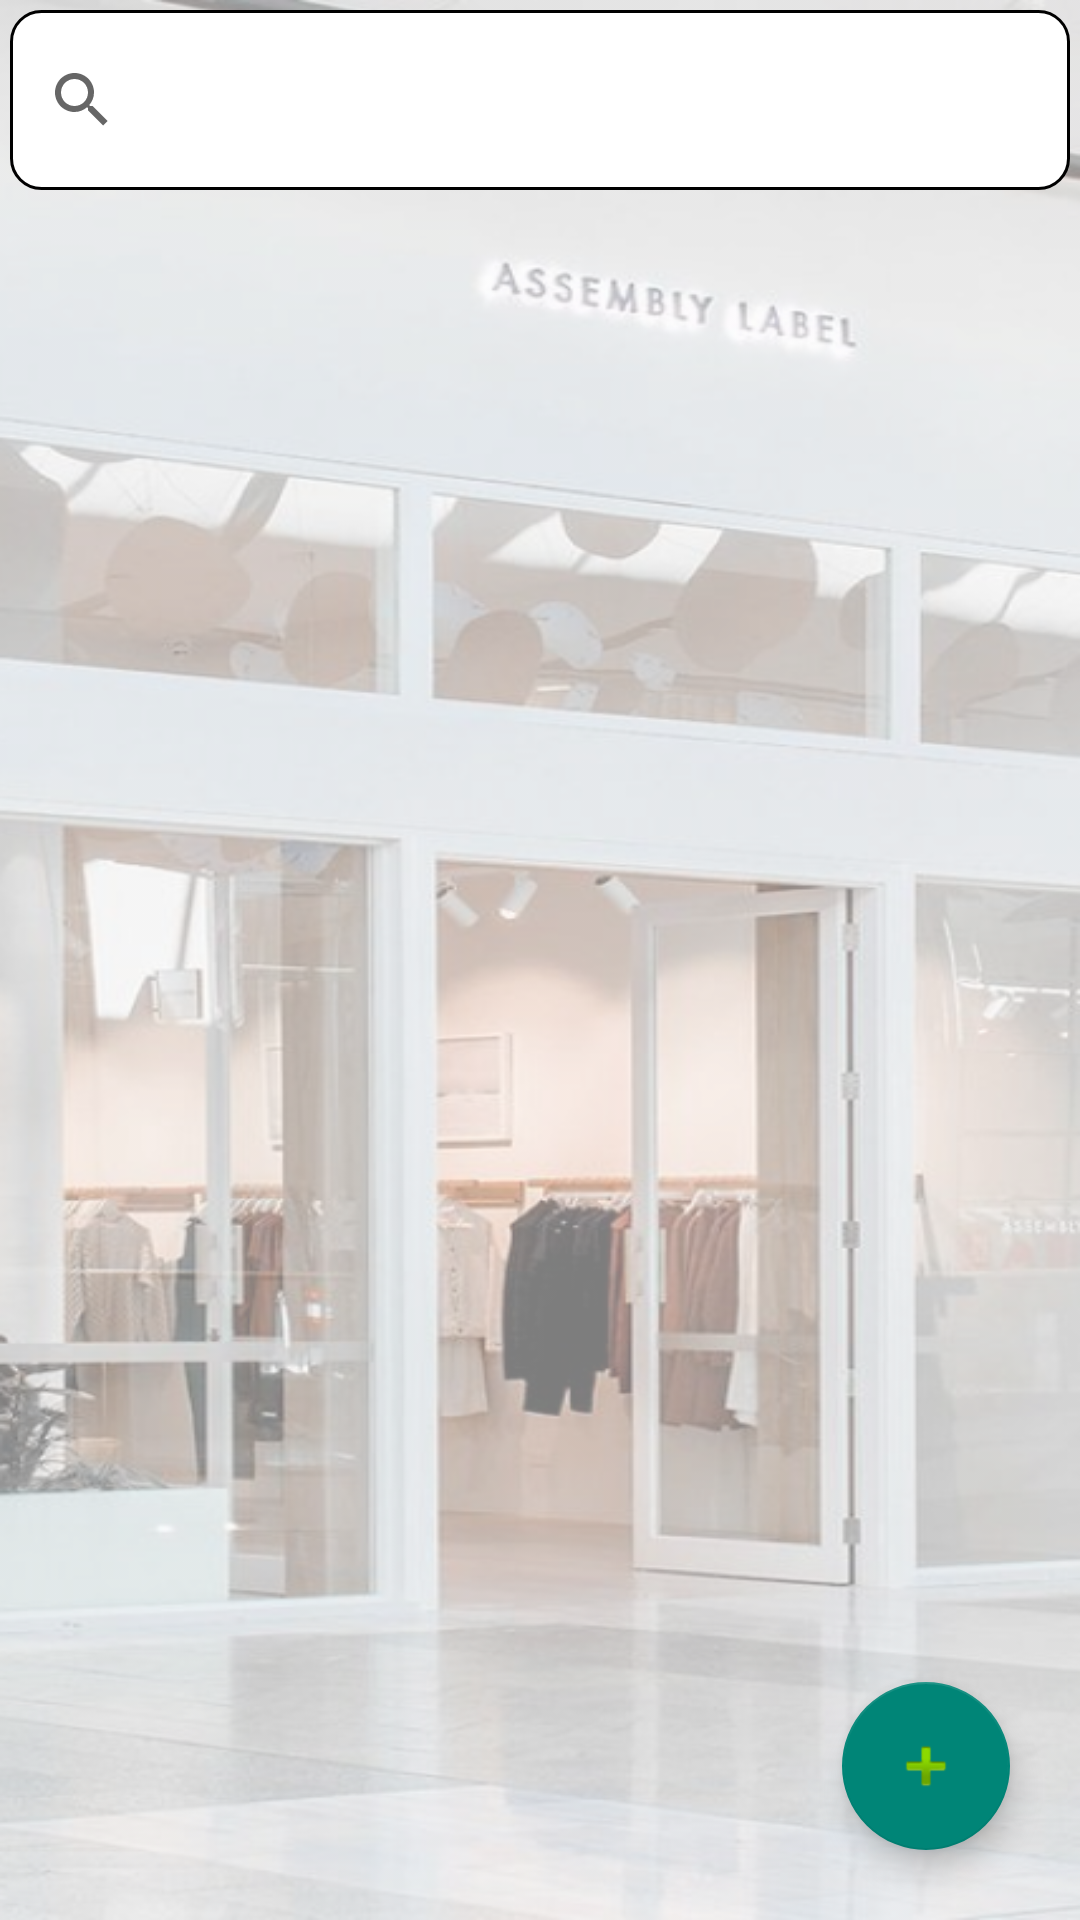

Named icons in this screenshot (1080px x 1920px) and their centers, (x,y):
add: (926,1766)
